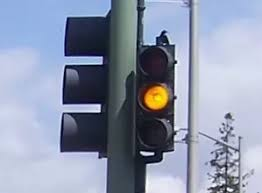amber: (132, 42, 178, 153), (138, 47, 171, 149)
